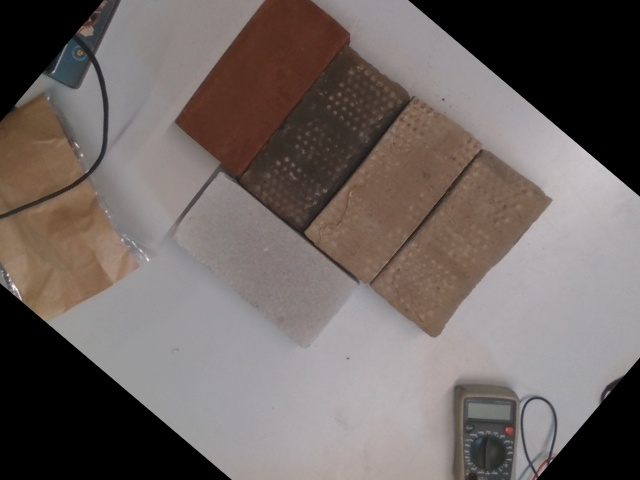brick: (376, 148, 548, 337), (169, 175, 358, 347), (307, 96, 478, 284), (238, 45, 407, 229)
